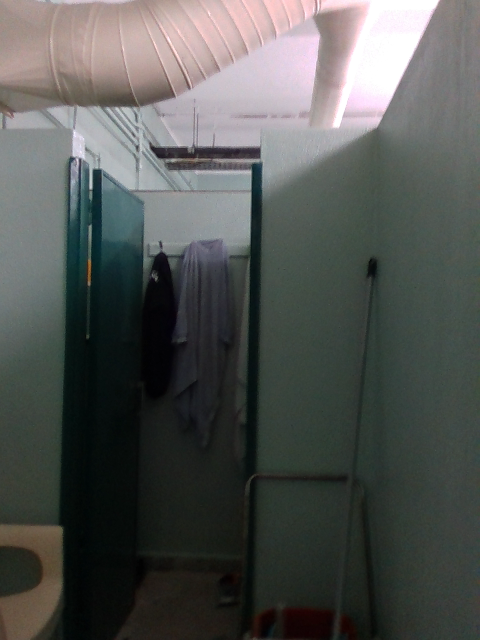open: (63, 160, 147, 607)
